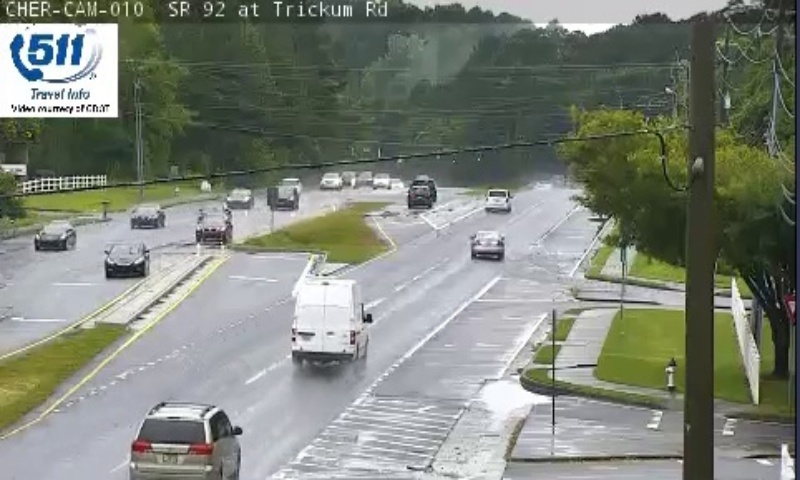car: (131, 404, 239, 478), (471, 230, 504, 256), (486, 187, 507, 209)
van: (292, 277, 368, 360)
